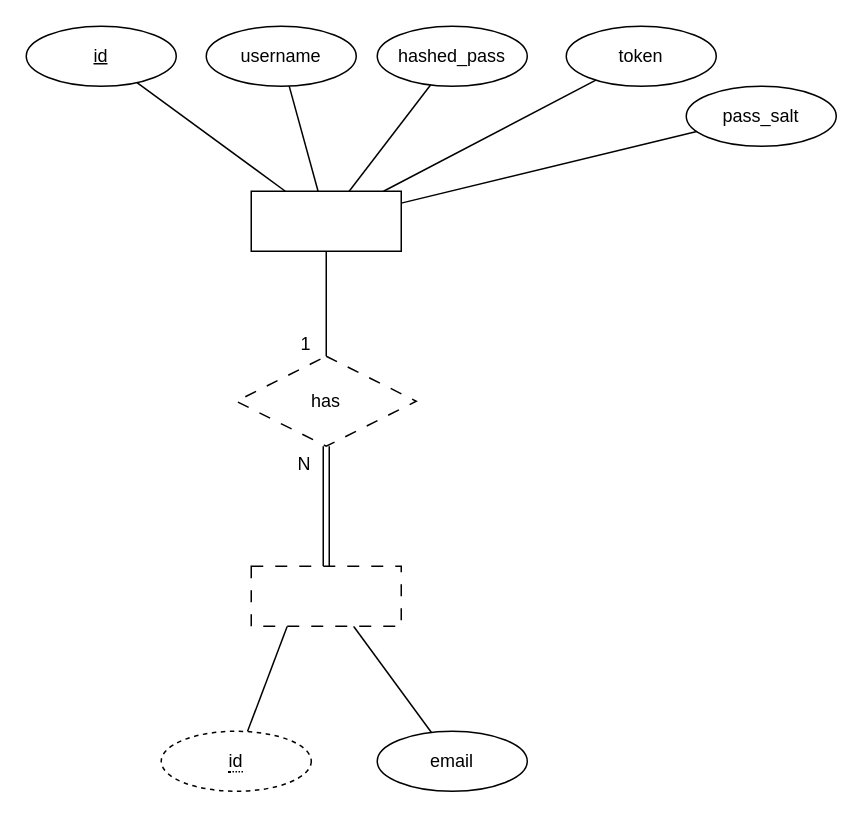
This 863x818 diagram has some shape labels left out. Each missing label, with the box of its shape:
DEVICE: (250, 565, 401, 626)
USER: (250, 190, 401, 251)
